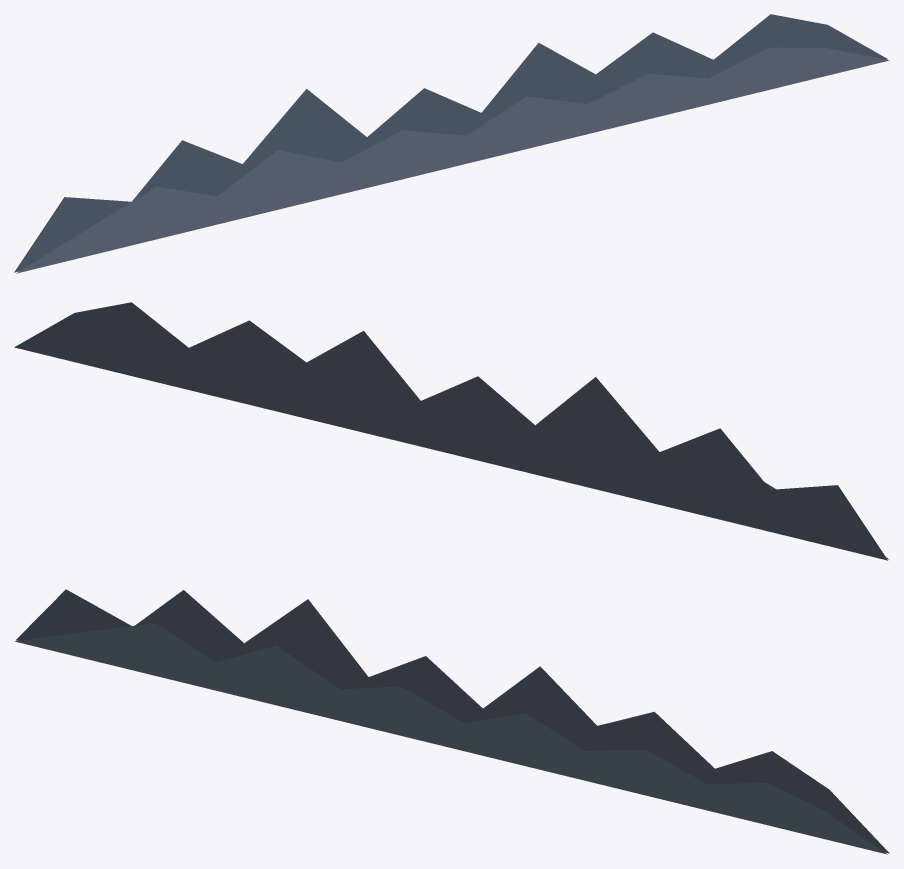
The model's file is bg_mountains.glb.
The picture shows the model from 3 angles, top to bottom: view 1: azimuth 30°, elevation 25°; view 2: azimuth 150°, elevation 25°; view 3: azimuth 330°, elevation 25°; orthographic projection.
Bounding box in the file's own units: 2600 × 320 × 8.
